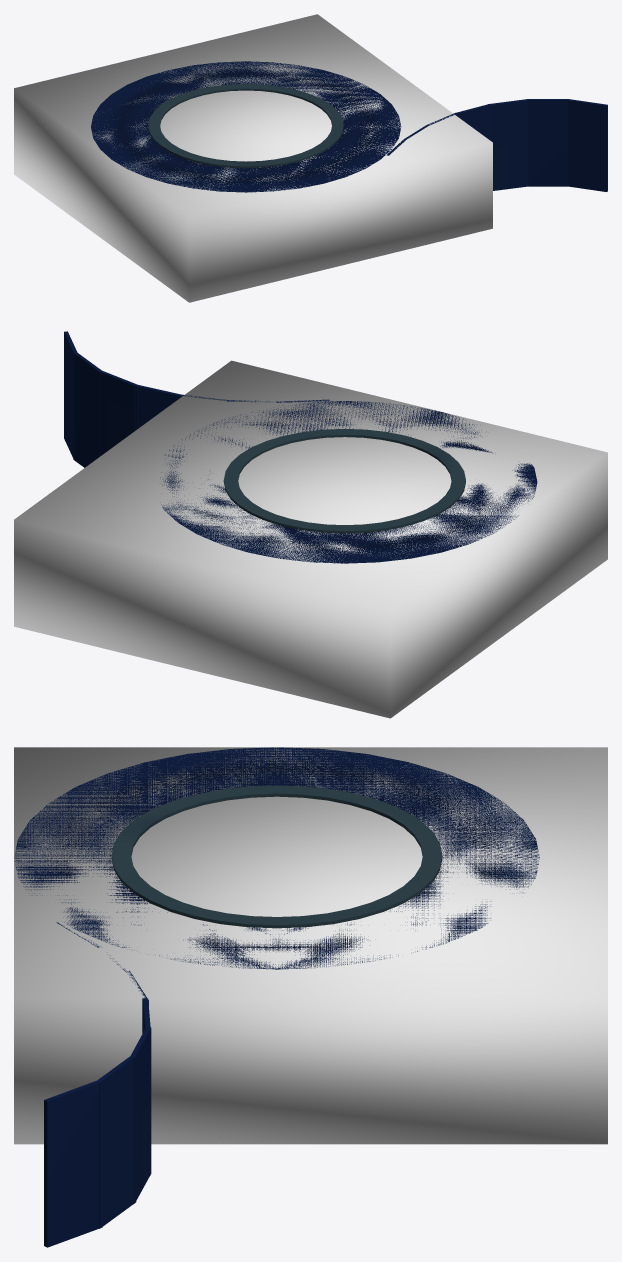
The model's file is cinta_aislante.glb.
The picture shows the model from 3 angles, top to bottom: view 1: azimuth 30°, elevation 25°; view 2: azimuth 150°, elevation 25°; view 3: azimuth 270°, elevation 25°; orthographic projection. The views are drawn at different scales.
Visible parts, largest first — view 1: cinta-colcaja, cinta; view 2: cinta-colcaja, cinta; view 3: cinta-colcaja, cinta.
Boxes of the visible parts, box(x1,y1,x2,y2) form: cinta-colcaja: box(14, 14, 492, 302); cinta: box(91, 61, 607, 192); cinta-colcaja: box(14, 360, 607, 718); cinta: box(64, 331, 537, 563); cinta-colcaja: box(14, 747, 607, 1144); cinta: box(14, 747, 539, 1247).
Bounding box in the file's own units: 0.0988 × 0.0198 × 0.07.
